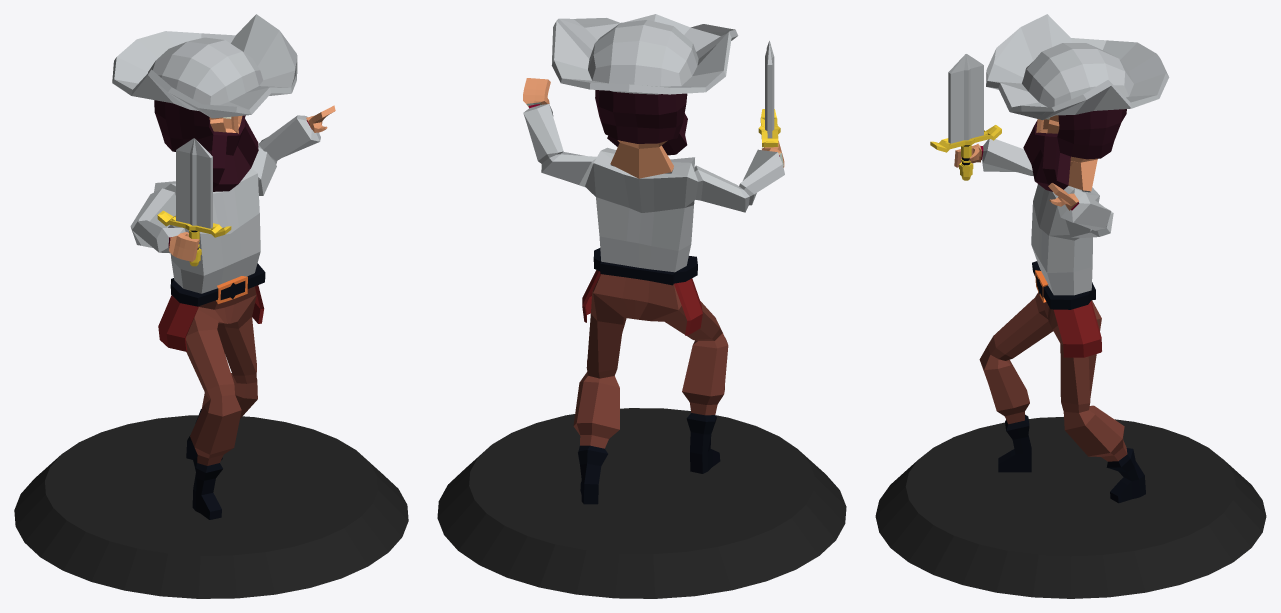
The model's file is Pirata Silver.fbx.
The picture shows the model from 3 angles, left to right: view 1: azimuth 30°, elevation 25°; view 2: azimuth 150°, elevation 25°; view 3: azimuth 270°, elevation 25°; orthographic projection. The views are drawn at different scales.
Parts seen in each view (by area): view 1: Cilindro, Cubo.001, Cilindro.001; view 2: Cilindro, Cubo.001, Cilindro.001; view 3: Cilindro, Cubo.001, Cilindro.001.
Boxes of the visible parts, x1=… form: Cilindro: x1=14, y1=415, x2=408, y2=598; Cubo.001: x1=112, y1=14, x2=335, y2=519; Cilindro.001: x1=157, y1=138, x2=231, y2=266; Cilindro: x1=437, y1=408, x2=846, y2=598; Cubo.001: x1=523, y1=14, x2=784, y2=504; Cilindro.001: x1=758, y1=40, x2=780, y2=147; Cilindro: x1=875, y1=417, x2=1266, y2=598; Cubo.001: x1=954, y1=14, x2=1169, y2=503; Cilindro.001: x1=930, y1=54, x2=1001, y2=180.
Size of the model in its own units: 154 by 203 by 154.
